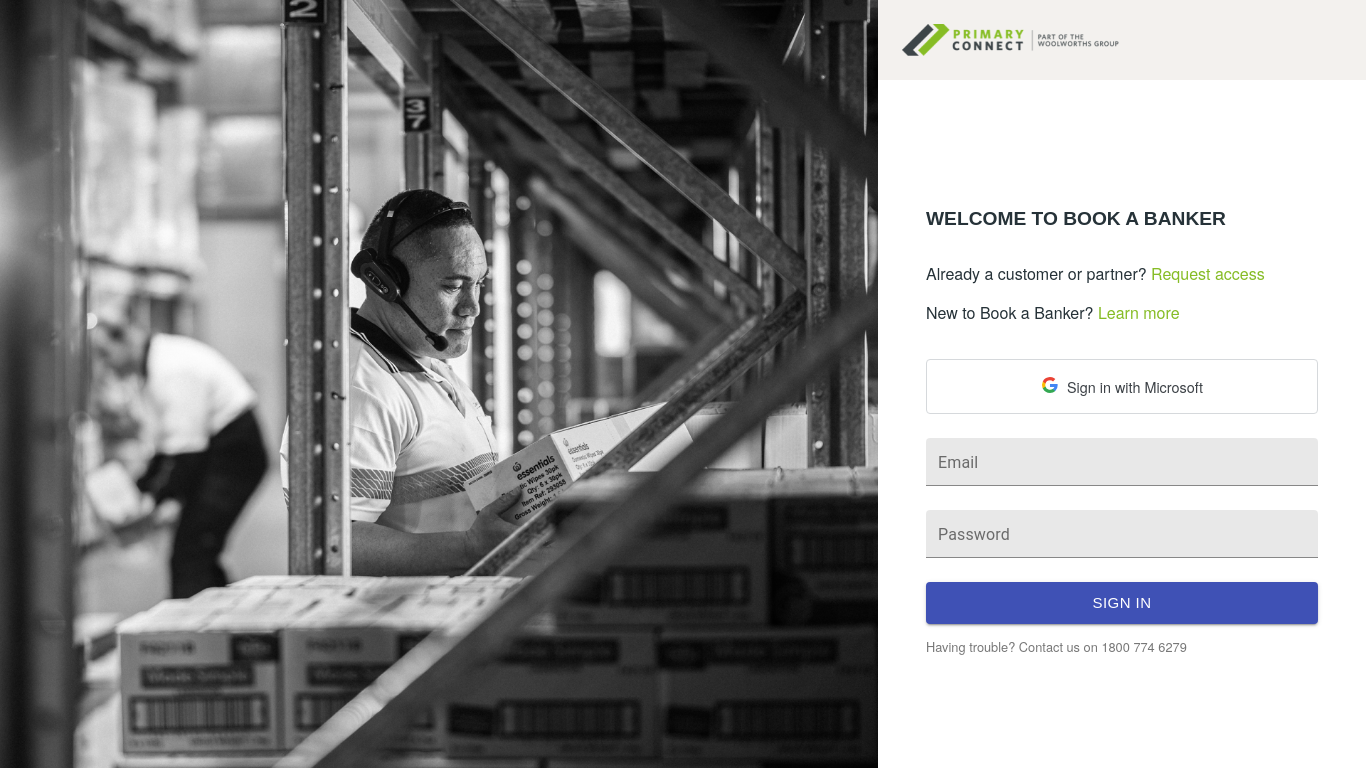
logging in › no password error
Type "sean@test.com" into the field labelled "Email".
click(1122, 462); type("sean@test.com")  # box [926, 438, 1318, 486]
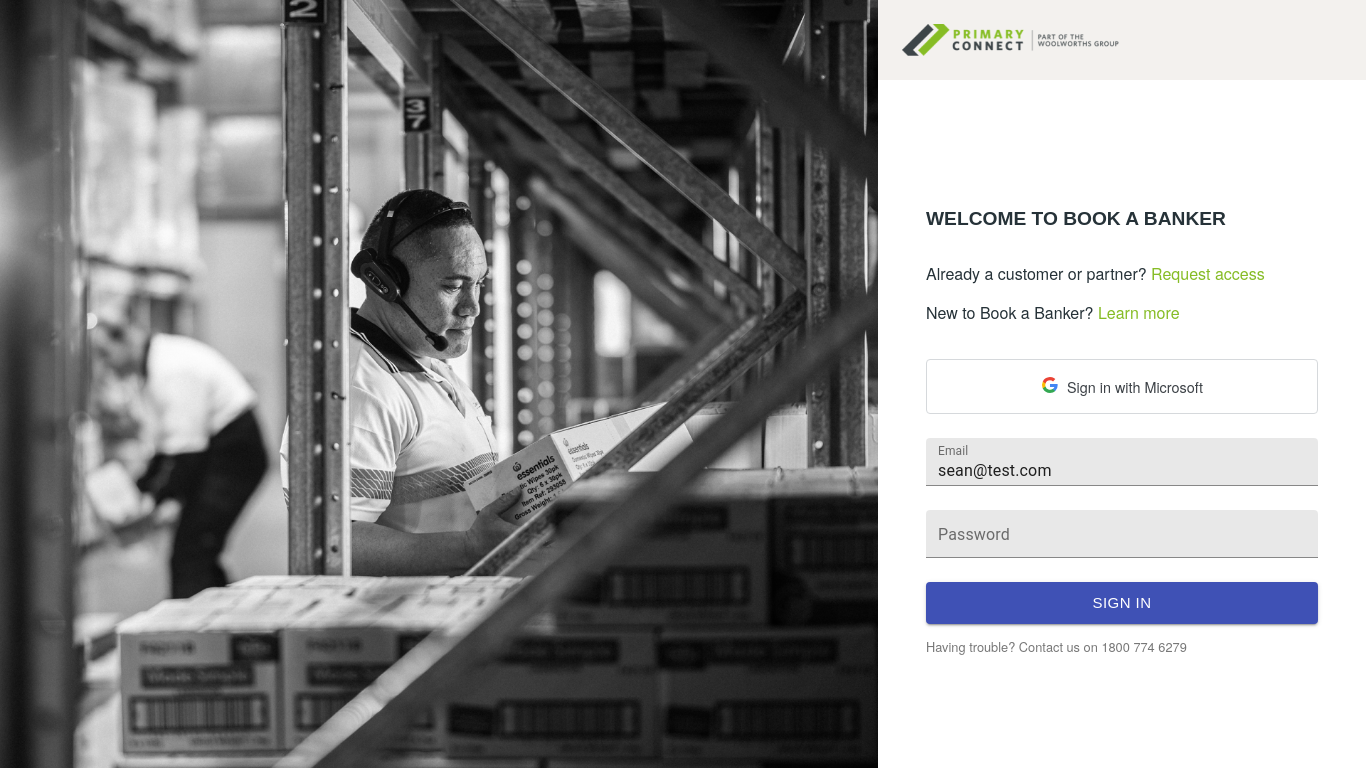
Click the button "Sign In".
click(1122, 603)  # box [926, 582, 1318, 624]
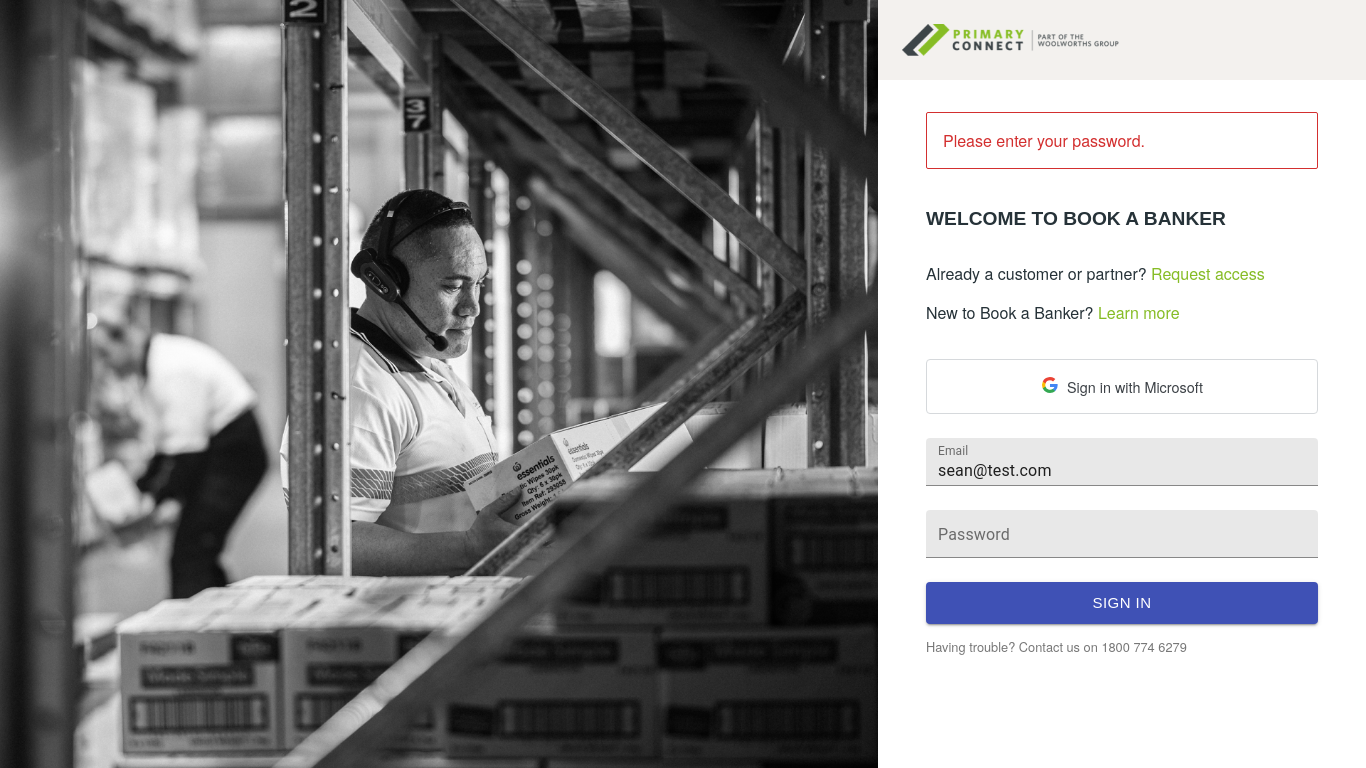
Expected: the text "Please enter your password." is shown, [926, 112, 1318, 169]
